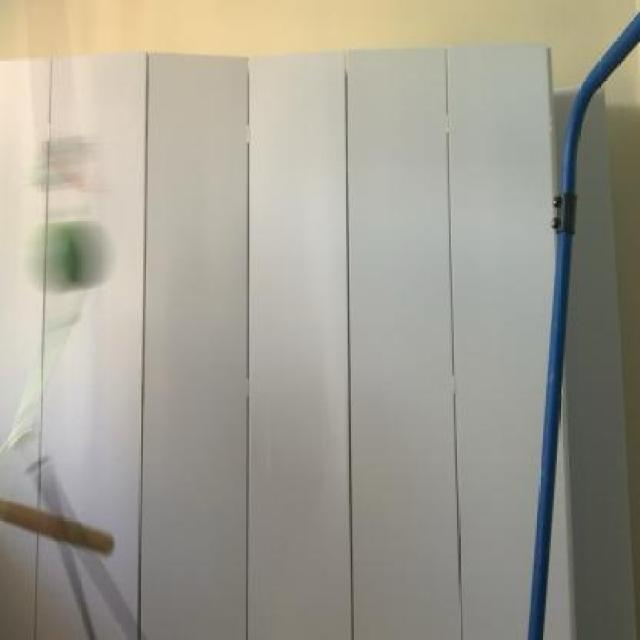baseball: (33, 204, 113, 299)
